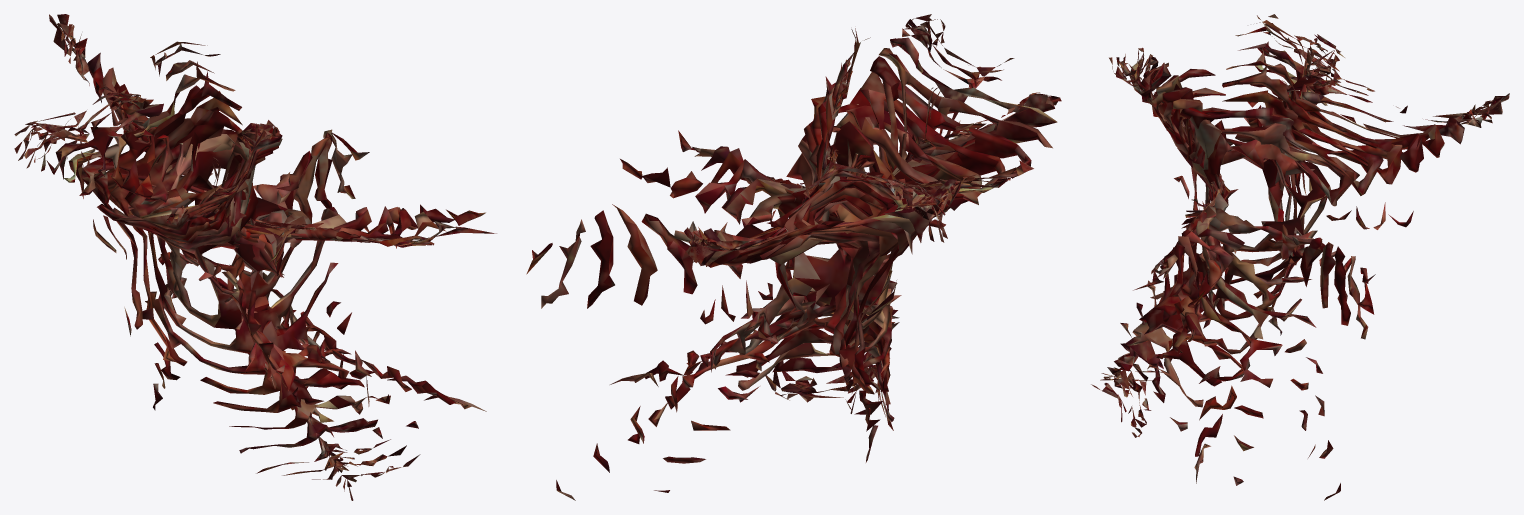
File: Blood_08.fbx
The picture shows the model from 3 angles, left to right: view 1: azimuth 30°, elevation 25°; view 2: azimuth 150°, elevation 25°; view 3: azimuth 270°, elevation 25°; orthographic projection. The views are drawn at different scales.
Parts seen in each view (by area): view 1: LOD_1_Group_4_Sub_1__lambert2, LOD_1_Group_3_Sub_1__lambert2, LOD_1_Group_2_Sub_1__lambert2, LOD_1_Group_1_Sub_1__lambert2, LOD_1_Group_5_Sub_1__lambert2, LOD_1_Group_0_Sub_1__lambert2, LOD_1_Group_6_Sub_1__lambert2, LOD_1_Group_7_Sub_1__lambert2, LOD_1_Group_8_Sub_1__lambert2, LOD_1_Group_9_Sub_1__lambert2, LOD_1_Group_10_Sub_1__lambert2; view 2: LOD_1_Group_4_Sub_1__lambert2, LOD_1_Group_3_Sub_1__lambert2, LOD_1_Group_0_Sub_1__lambert2, LOD_1_Group_2_Sub_1__lambert2, LOD_1_Group_5_Sub_1__lambert2, LOD_1_Group_1_Sub_1__lambert2, LOD_1_Group_6_Sub_1__lambert2, LOD_1_Group_7_Sub_1__lambert2, LOD_1_Group_8_Sub_1__lambert2, LOD_1_Group_9_Sub_1__lambert2, LOD_1_Group_10_Sub_1__lambert2; view 3: LOD_1_Group_0_Sub_1__lambert2, LOD_1_Group_4_Sub_1__lambert2, LOD_1_Group_3_Sub_1__lambert2, LOD_1_Group_2_Sub_1__lambert2, LOD_1_Group_1_Sub_1__lambert2, LOD_1_Group_5_Sub_1__lambert2, LOD_1_Group_6_Sub_1__lambert2, LOD_1_Group_7_Sub_1__lambert2, LOD_1_Group_8_Sub_1__lambert2, LOD_1_Group_9_Sub_1__lambert2, LOD_1_Group_10_Sub_1__lambert2.
Boxes of the visible parts, box(x1,y1,x2,y2) form: LOD_1_Group_4_Sub_1__lambert2: box(79, 71, 455, 412); LOD_1_Group_3_Sub_1__lambert2: box(95, 91, 416, 394); LOD_1_Group_2_Sub_1__lambert2: box(110, 111, 371, 376); LOD_1_Group_1_Sub_1__lambert2: box(129, 129, 346, 388); LOD_1_Group_5_Sub_1__lambert2: box(63, 61, 486, 429); LOD_1_Group_0_Sub_1__lambert2: box(152, 132, 311, 354); LOD_1_Group_6_Sub_1__lambert2: box(46, 52, 455, 453); LOD_1_Group_7_Sub_1__lambert2: box(34, 38, 496, 473); LOD_1_Group_8_Sub_1__lambert2: box(24, 34, 434, 475); LOD_1_Group_9_Sub_1__lambert2: box(14, 23, 420, 491); LOD_1_Group_10_Sub_1__lambert2: box(14, 14, 363, 500); LOD_1_Group_4_Sub_1__lambert2: box(587, 56, 1031, 472); LOD_1_Group_3_Sub_1__lambert2: box(612, 72, 1007, 443); LOD_1_Group_0_Sub_1__lambert2: box(736, 121, 897, 341); LOD_1_Group_2_Sub_1__lambert2: box(641, 88, 981, 412); LOD_1_Group_5_Sub_1__lambert2: box(541, 48, 1052, 500); LOD_1_Group_1_Sub_1__lambert2: box(673, 104, 948, 372); LOD_1_Group_6_Sub_1__lambert2: box(526, 37, 1057, 462); LOD_1_Group_7_Sub_1__lambert2: box(678, 25, 1054, 430); LOD_1_Group_8_Sub_1__lambert2: box(692, 19, 1061, 416); LOD_1_Group_9_Sub_1__lambert2: box(686, 14, 1033, 409); LOD_1_Group_10_Sub_1__lambert2: box(684, 92, 1039, 413); LOD_1_Group_0_Sub_1__lambert2: box(1203, 105, 1330, 320); LOD_1_Group_4_Sub_1__lambert2: box(1139, 65, 1423, 458); LOD_1_Group_3_Sub_1__lambert2: box(1152, 87, 1402, 420); LOD_1_Group_2_Sub_1__lambert2: box(1172, 107, 1383, 383); LOD_1_Group_1_Sub_1__lambert2: box(1150, 119, 1359, 354); LOD_1_Group_5_Sub_1__lambert2: box(1127, 48, 1444, 500); LOD_1_Group_6_Sub_1__lambert2: box(1120, 41, 1464, 485); LOD_1_Group_7_Sub_1__lambert2: box(1109, 15, 1482, 410); LOD_1_Group_8_Sub_1__lambert2: box(1101, 20, 1492, 427); LOD_1_Group_9_Sub_1__lambert2: box(1100, 14, 1502, 437); LOD_1_Group_10_Sub_1__lambert2: box(1091, 34, 1509, 422).
Bounding box in the file's own units: 0.2481 × 0.2482 × 0.2426.
